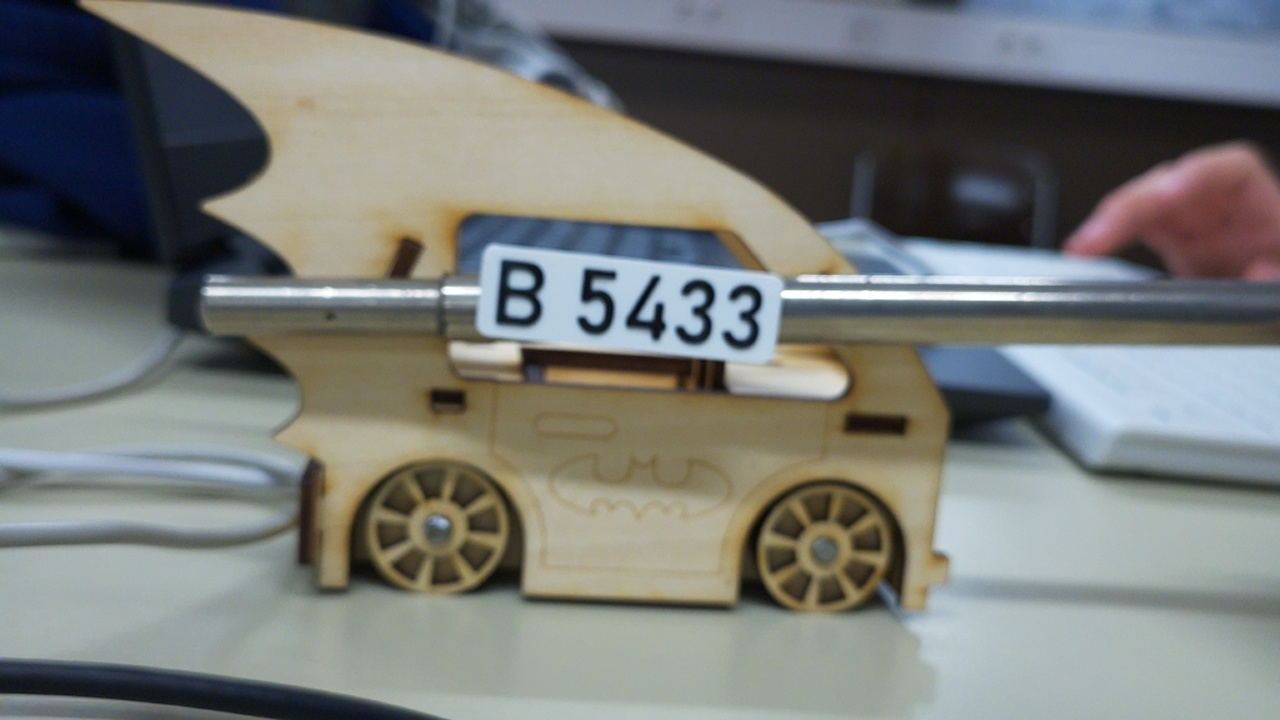license_plate: (477, 241, 785, 365)
